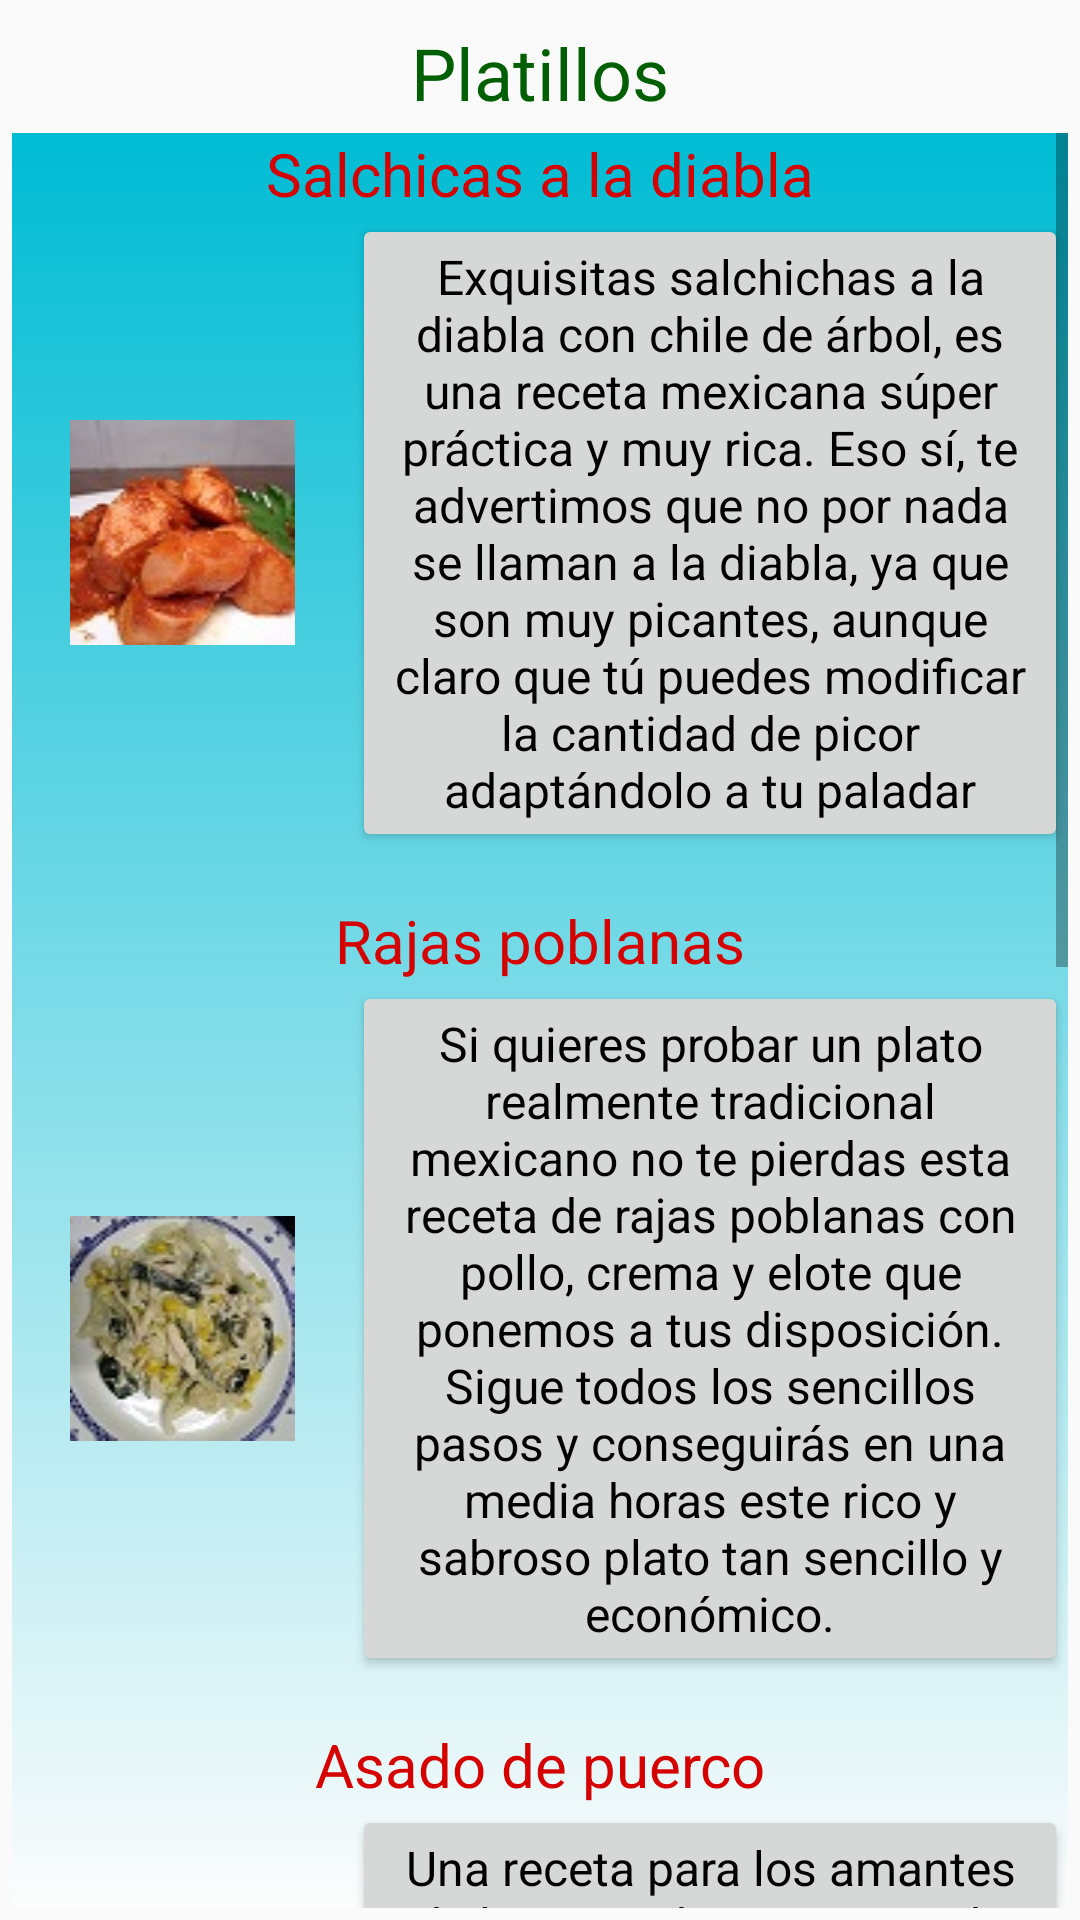

Named icons in this screenshot (1080x1920) and their centers, [x,y]:
Salchicas a la diabla: [182,532]
